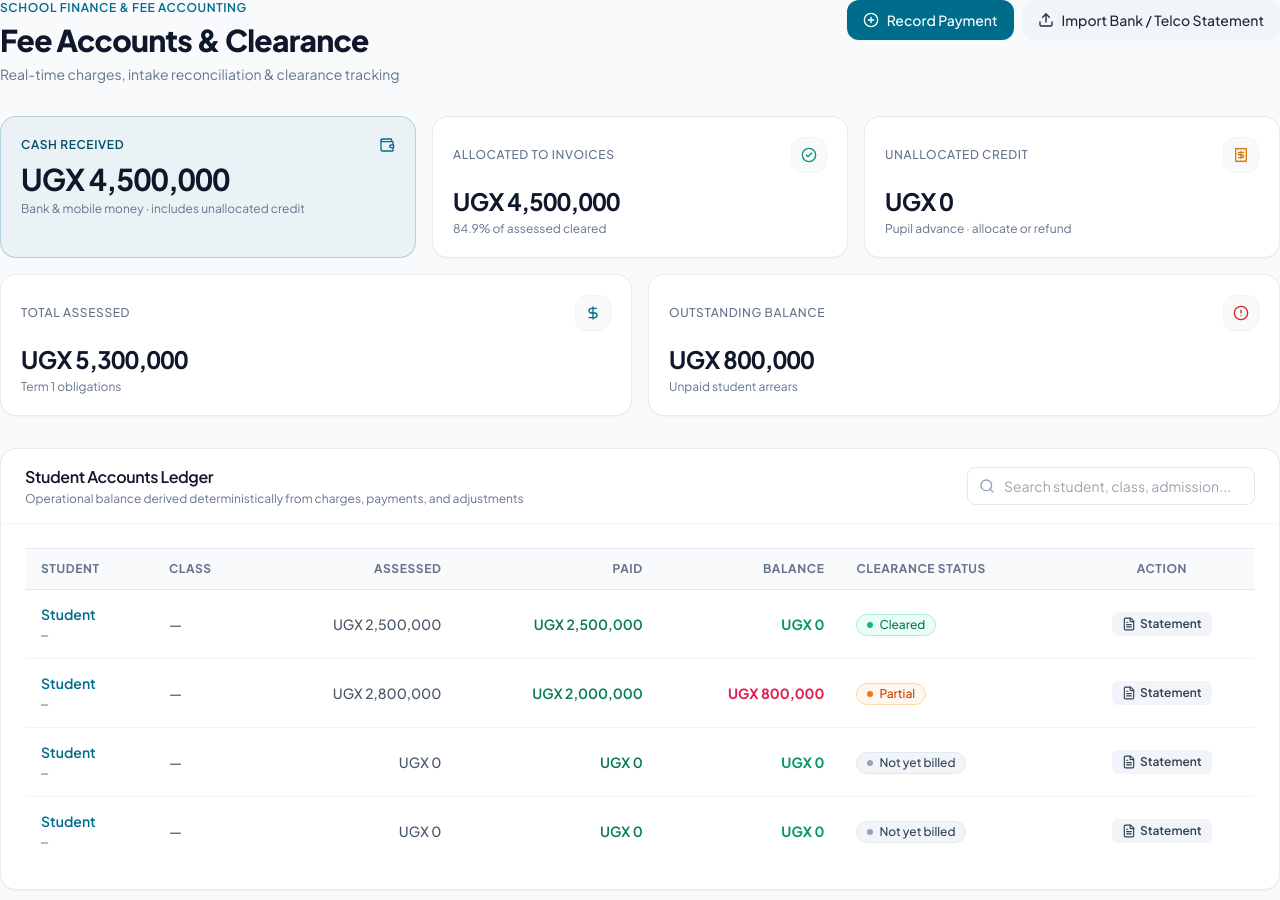
Test: Phase 7 UI Pages & Components Suite › FeesPage (School Finance & Student Accounts) › renders KPI stat cards and student fee accounts ledger
The width and height of the screenshot is (1280, 900).
Expected: the heading "Fee Accounts & Clearance" is shown, top-left (0, 22), bottom-right (400, 58)
Expected: the text "Cash Received" is shown, top-left (21, 137), bottom-right (124, 153)
Verify Rapid Intake Modal opens
Click the button "Record Payment".
click(930, 20)  # box top-left (847, 0), bottom-right (1014, 40)
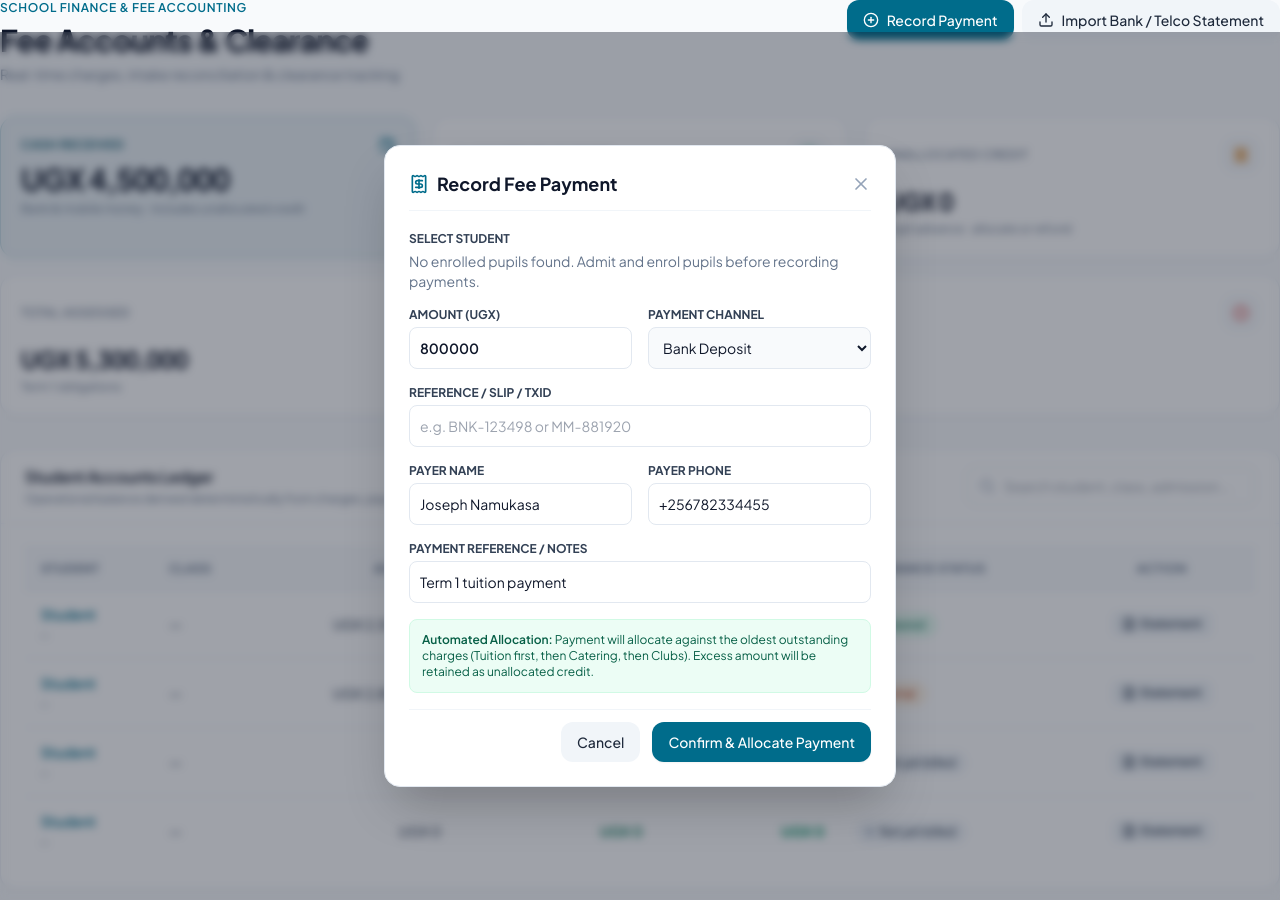
Result: the heading "Record Fee Payment" is shown at top-left (437, 170), bottom-right (618, 198)
Result: the text "Automated Allocation:" is shown at top-left (422, 632), bottom-right (553, 647)
